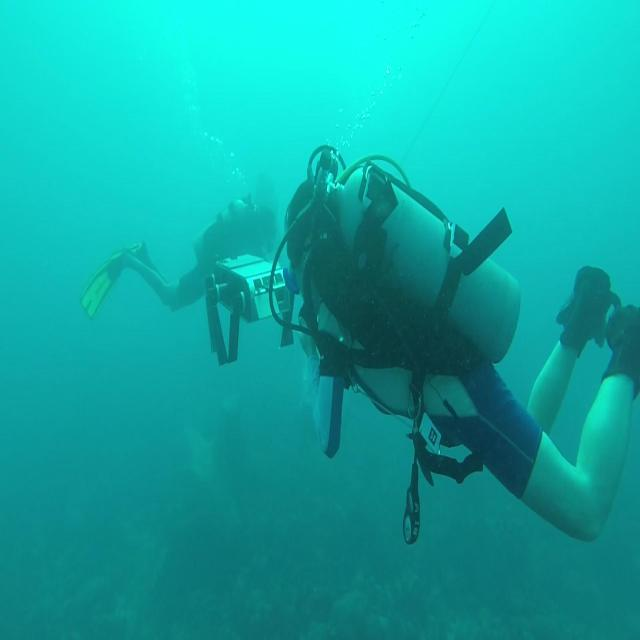human: (281, 143, 639, 545), (79, 178, 278, 322)
